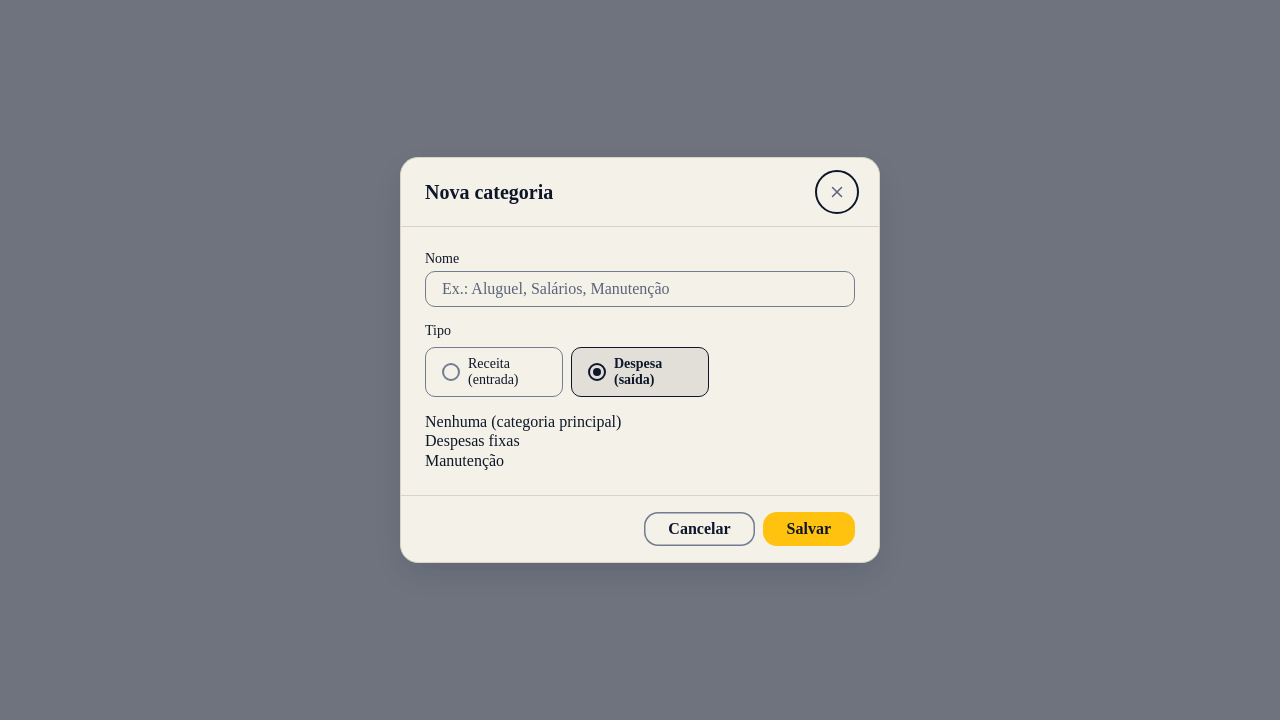
Test case: CategoriaModal: cadastro › nome repetido aparece no campo, não no aviso do topo
Type "Aluguel" into the field labelled "Nome" at (640, 289), box 425,271 -> 855,307
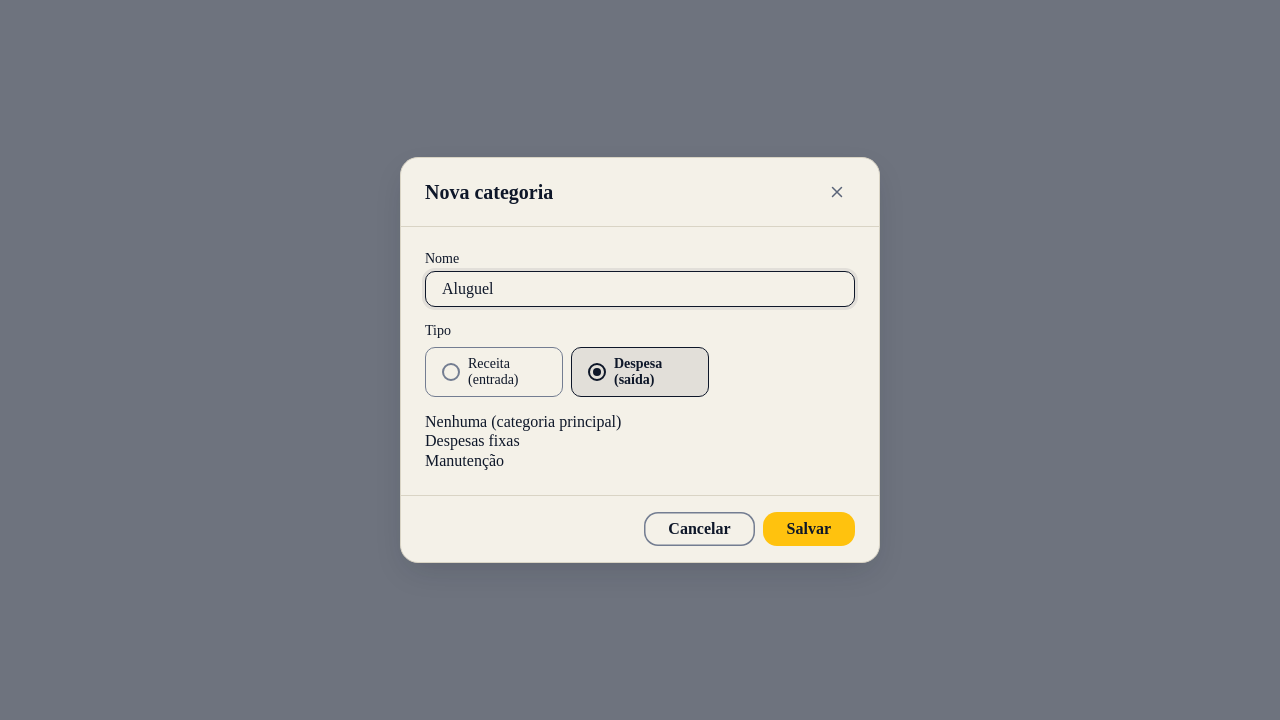
Click the button "Salvar" at (809, 529), box 762,512 -> 855,546
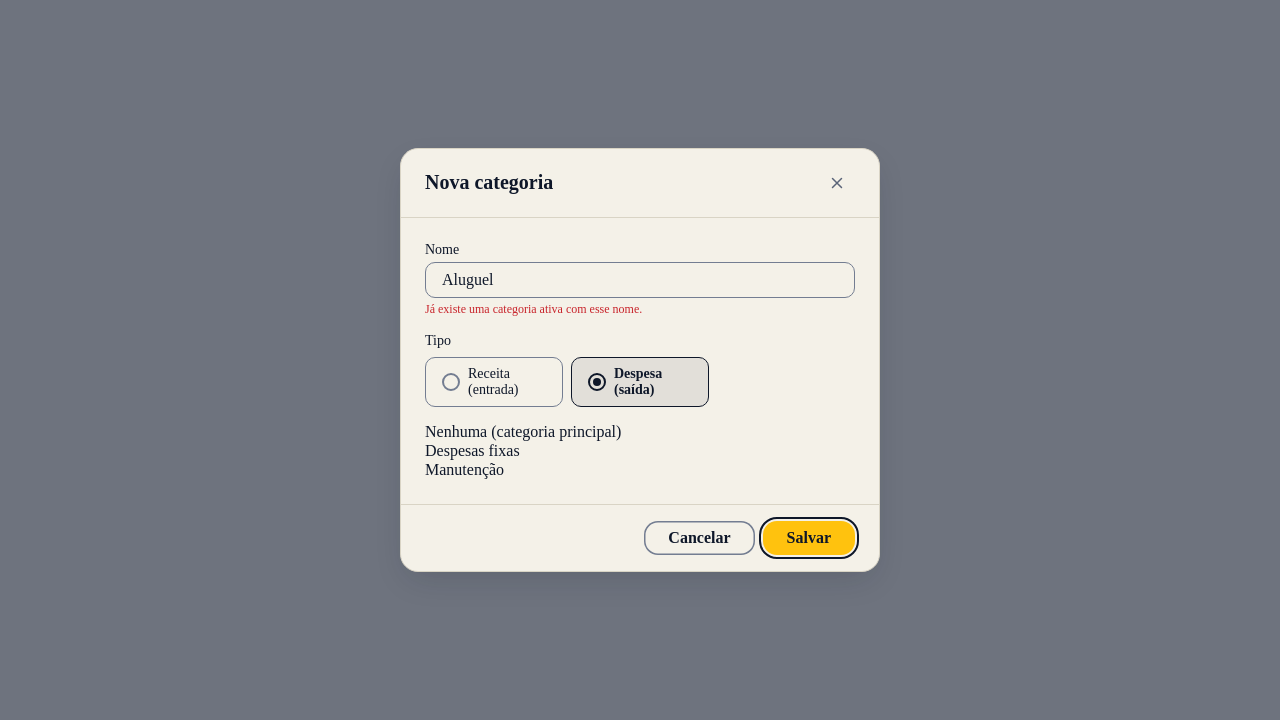
Check: the text "Já existe uma categoria ativa com esse nome." is shown, box 425,302 -> 642,316
